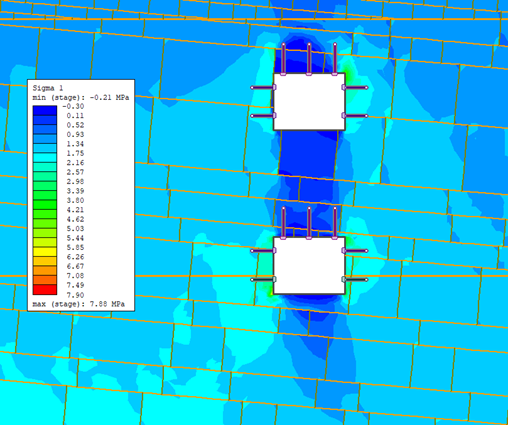crown: (295, 228, 322, 236), (298, 64, 319, 72)
label: (28, 79, 135, 311)
tunnel-opening: (273, 237, 344, 294), (273, 74, 344, 130)
